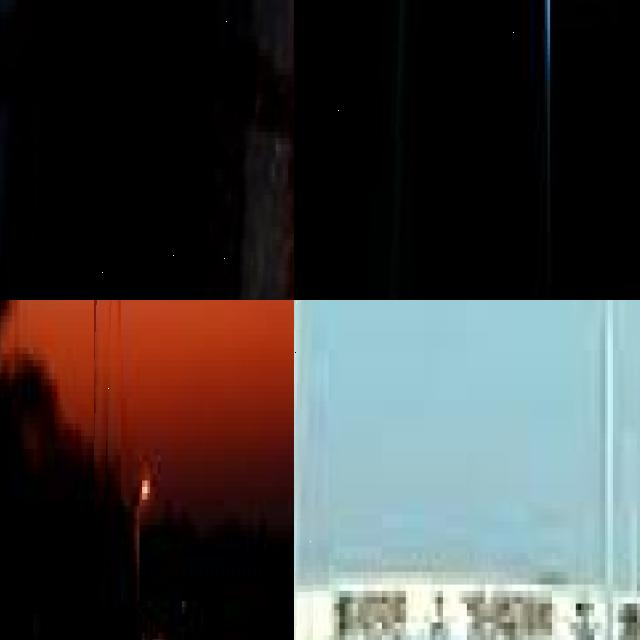street light: (0, 0, 294, 300), (294, 0, 515, 300), (536, 0, 603, 300), (294, 300, 328, 640), (94, 300, 120, 640), (136, 480, 150, 640)
